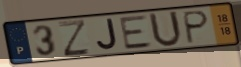3: (31, 23, 57, 57)
E: (118, 14, 155, 52)
J: (95, 17, 120, 52)
P: (183, 9, 211, 46)
U: (147, 10, 184, 50)
Z: (56, 18, 92, 58)
